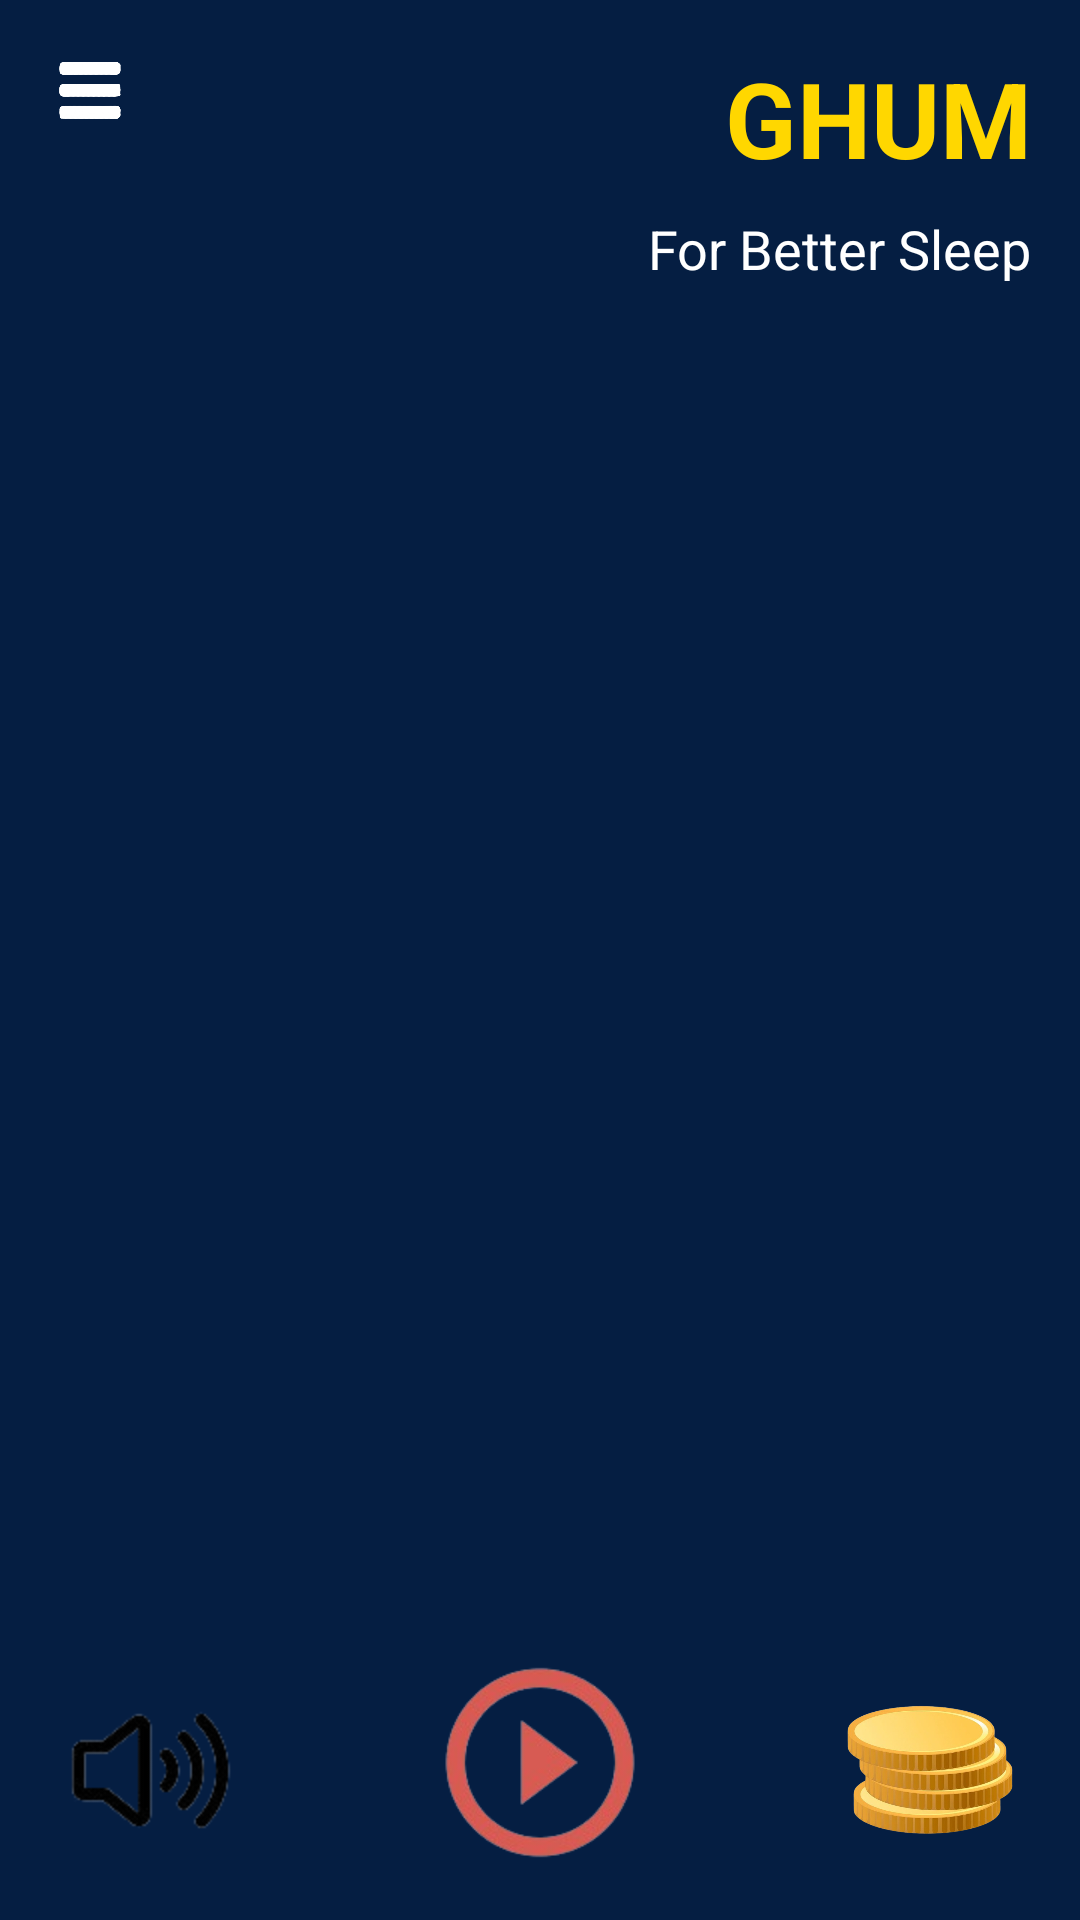

Named icons in this screenshot (1080w x 1920h) and their bounding boxes, bbox=(x1, y1, x2, y2):
custom tokens: bbox=(847, 1706, 1013, 1834)
menu: bbox=(59, 62, 121, 119)
sounds: bbox=(72, 1714, 230, 1828)
stream: bbox=(445, 1668, 635, 1857)
